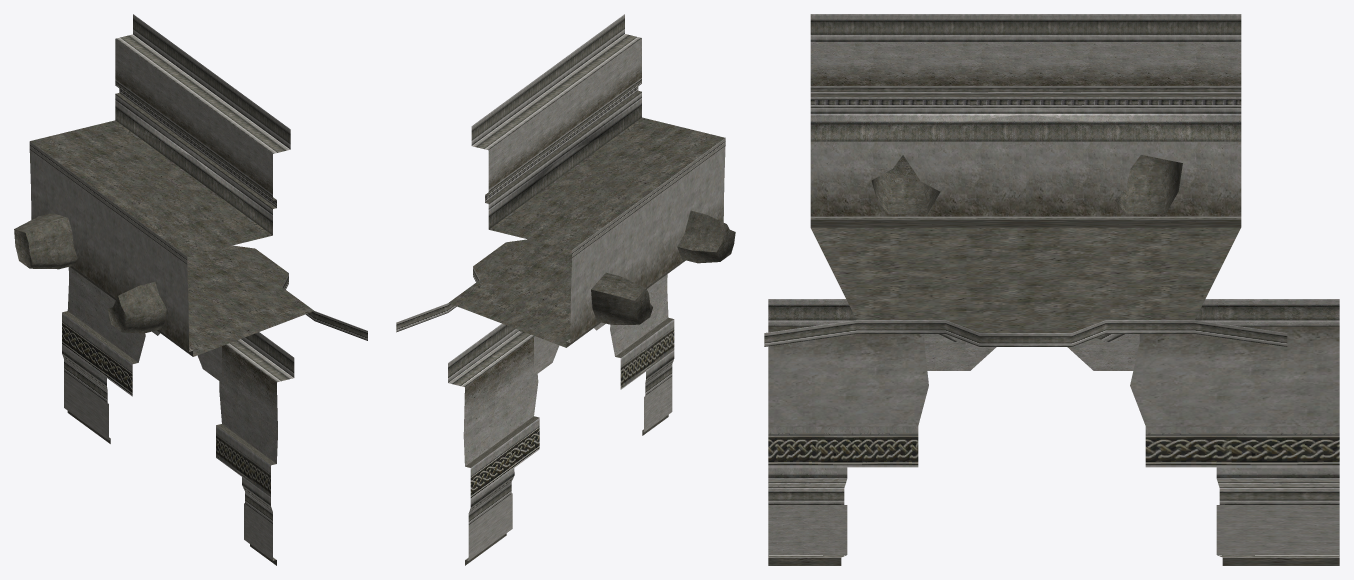
File: DWARF_PALACE_GEAR_ROOM_WALL04C.fbx
The picture shows the model from 3 angles, left to right: view 1: azimuth 30°, elevation 25°; view 2: azimuth 150°, elevation 25°; view 3: azimuth 270°, elevation 25°; orthographic projection. The views are drawn at different scales.
Parts seen in each view (by area): view 1: DWARF_PALACE_GEAR_ROOM_WALL04C; view 2: DWARF_PALACE_GEAR_ROOM_WALL04C; view 3: DWARF_PALACE_GEAR_ROOM_WALL04C.
Part boxes in pixels (x1,y1,x2,y2): DWARF_PALACE_GEAR_ROOM_WALL04C: [14, 14, 367, 565]; DWARF_PALACE_GEAR_ROOM_WALL04C: [396, 14, 735, 565]; DWARF_PALACE_GEAR_ROOM_WALL04C: [764, 14, 1339, 565].
Size of the model in its own units: 104562 by 205000 by 187002.
Materials: 7 (7 with a texture image).
